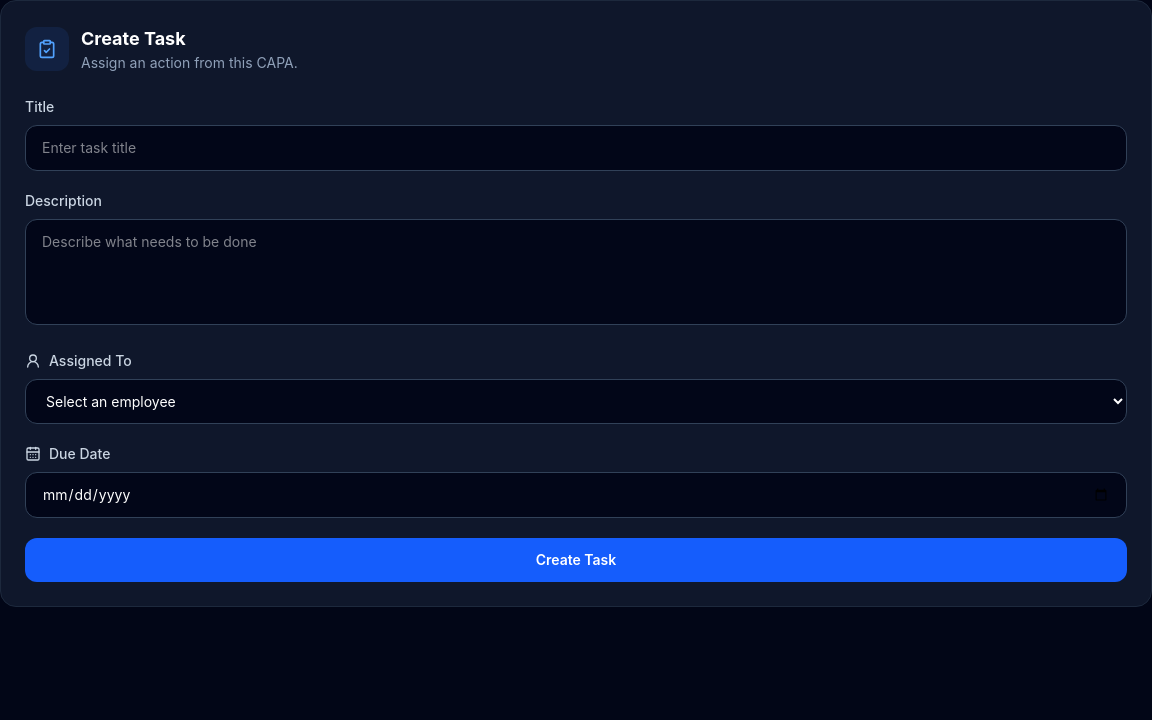
TaskForm › creates a CAPA task successfully
Type "Membersihkan jalur evakuasi" into the field labelled "Title" at (576, 148), box [25, 125, 1127, 171]
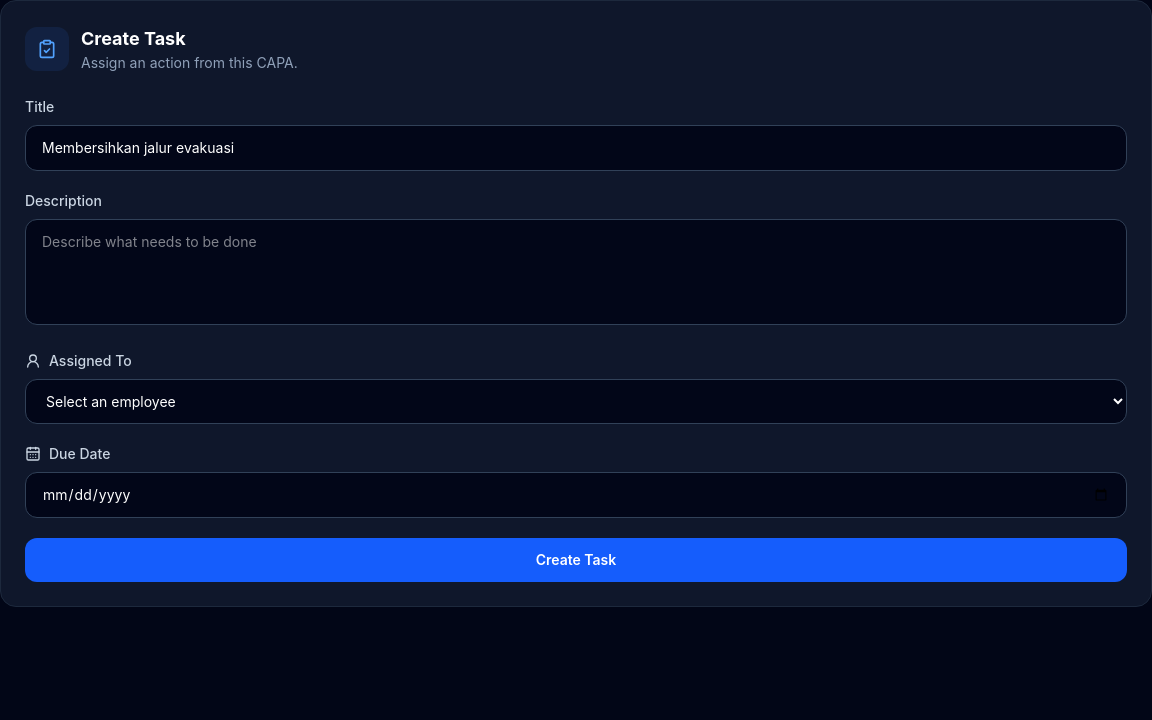
Type "Membersihkan material yang menghalangi jalur evakuasi." into the text box labelled "Description" at (576, 272), box [25, 219, 1127, 325]
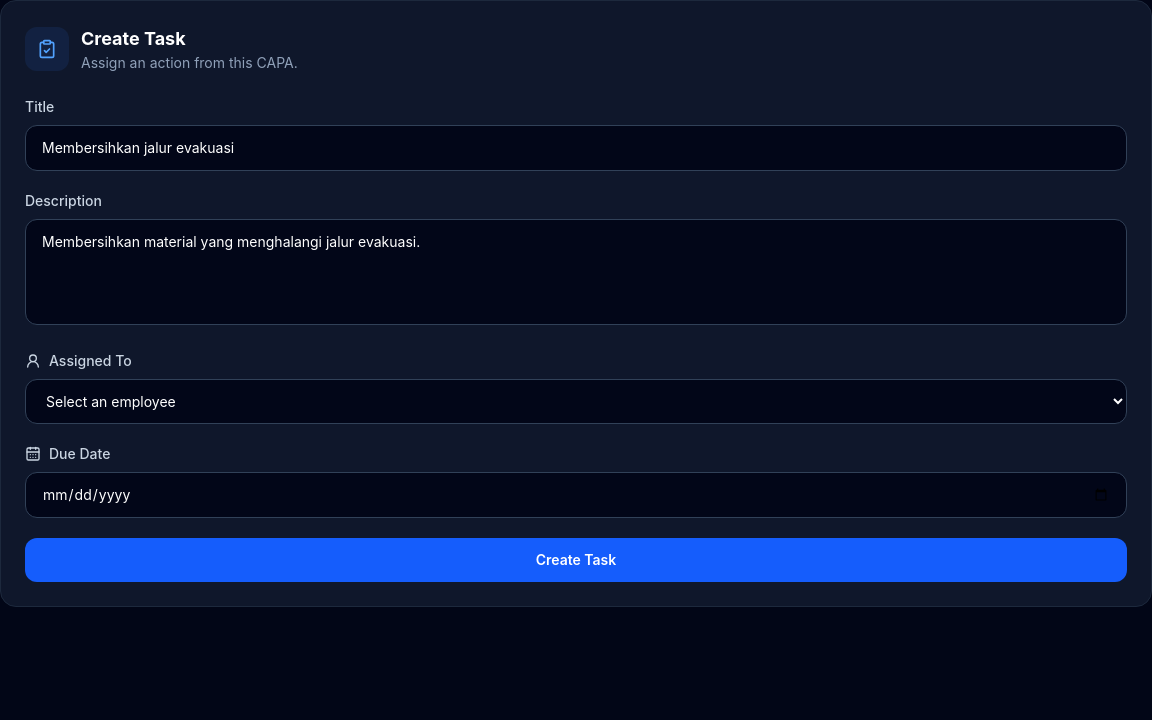
Select "Budi Santoso — budi@example.com" in the dropdown labelled "Assigned To" at (576, 402), box [25, 379, 1127, 424]
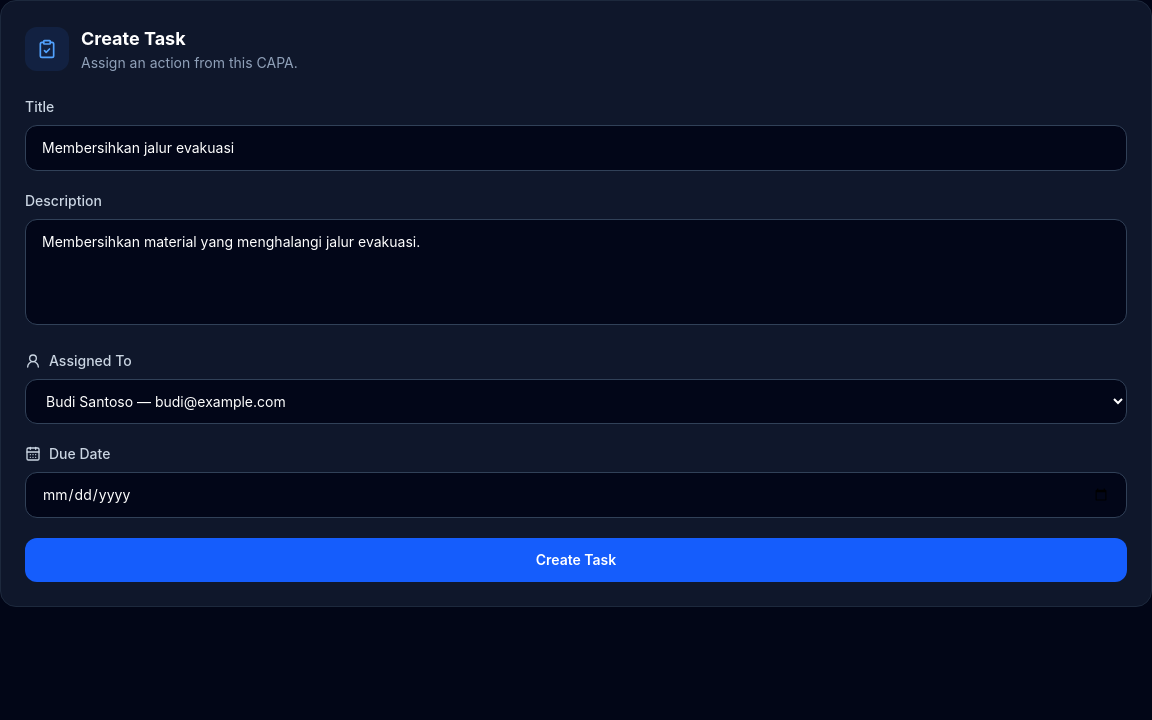
Type "2026-10-10" into the date field labelled "Due Date" at (576, 495), box [25, 472, 1127, 518]
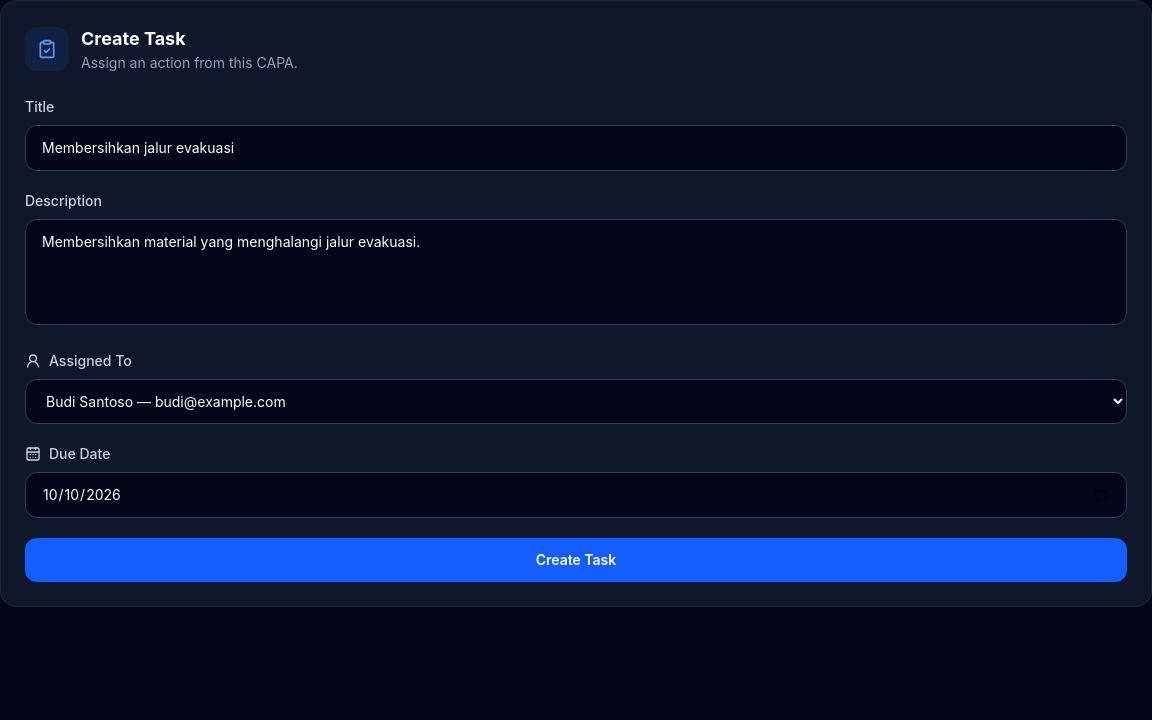
Click the button "Create Task" at (576, 560), box [25, 538, 1127, 582]
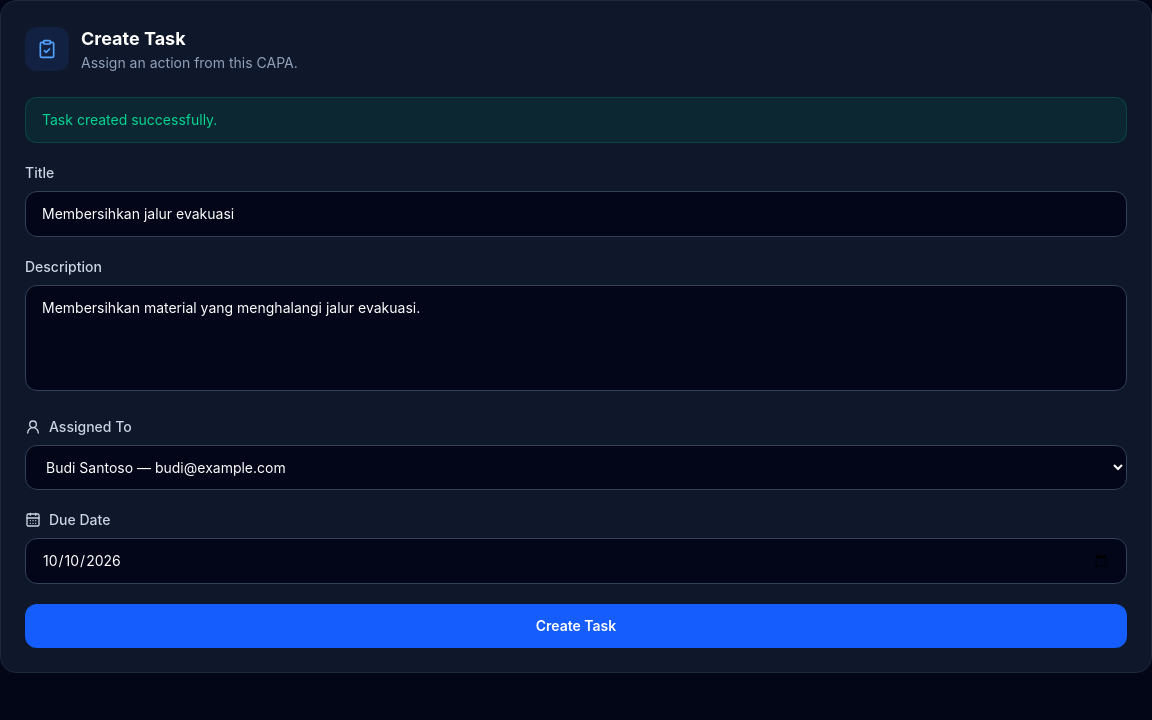
Expected: the message reads "Task created successfully.", [42, 111, 217, 128]
